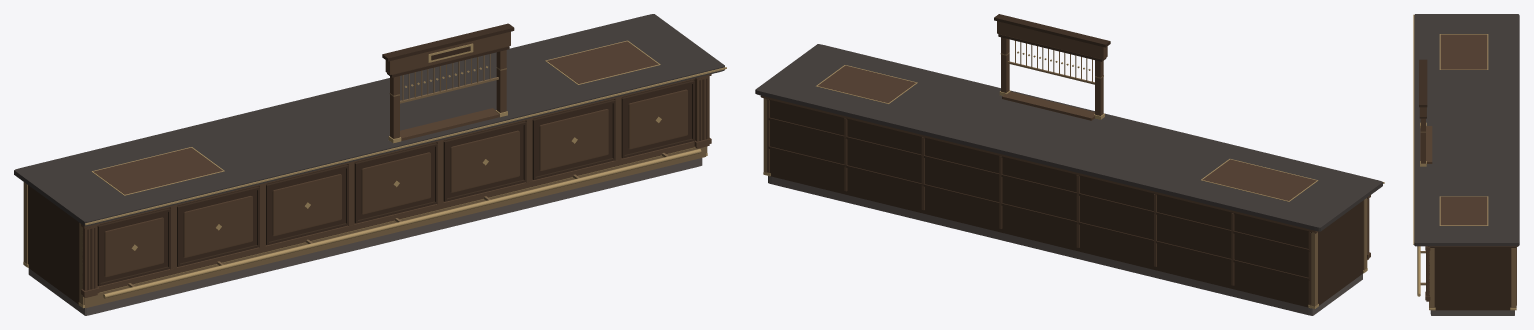
The model's file is loan_counter.glb.
3 renders of one model, left to right at view 1: azimuth 30°, elevation 25°; view 2: azimuth 150°, elevation 25°; view 3: azimuth 270°, elevation 25°, orthographic. The views are drawn at different scales.
Visible parts, largest first — view 1: m16_loan_counter; view 2: m16_loan_counter; view 3: m16_loan_counter.
Boxes of the visible parts, x1=… form: m16_loan_counter: x1=14, y1=14, x2=726, y2=315; m16_loan_counter: x1=755, y1=14, x2=1384, y2=315; m16_loan_counter: x1=1413, y1=14, x2=1519, y2=315.
Size of the model in its own units: 7.21 by 2.06 by 1.41.
